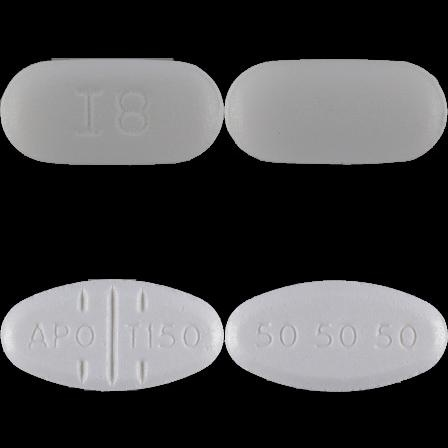60429-221: (0, 0, 224, 224)
